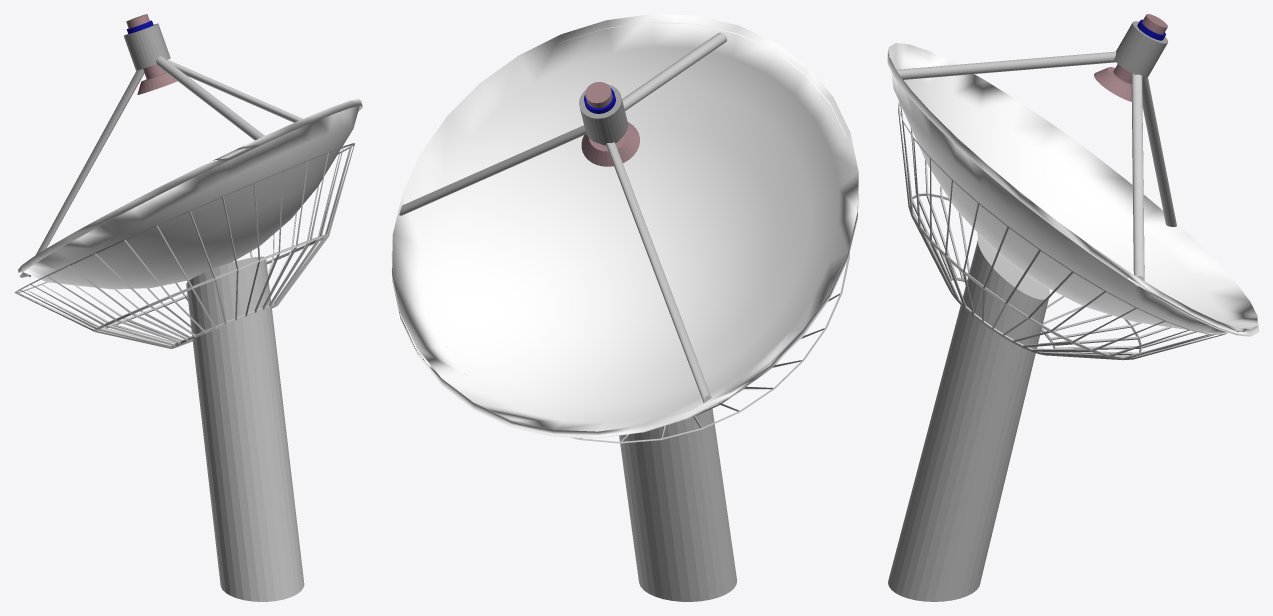
File: satellite.obj
3 renders of one model, left to right at view 1: azimuth 30°, elevation 25°; view 2: azimuth 150°, elevation 25°; view 3: azimuth 270°, elevation 25°, orthographic. The views are drawn at different scales.
Visible parts, largest first — view 1: Cylinder.008, Sphere, Cylinder.004, Cylinder.002, Cylinder.001, Cylinder.003, Cylinder, Cylinder.005_Cylinder.011; view 2: Sphere, Cylinder.008, Cylinder.002, Cylinder, Cylinder.001, Cylinder.003, Cylinder.004, Cylinder.005_Cylinder.011; view 3: Sphere, Cylinder.008, Cylinder.004, Cylinder.003, Cylinder, Cylinder.001, Cylinder.002, Cylinder.005_Cylinder.011.
Part boxes in pixels (box(x1,y1,x2,y2)): Cylinder.008: box(186, 256, 304, 601); Sphere: box(18, 99, 362, 289); Cylinder.004: box(14, 143, 354, 348); Cylinder.002: box(28, 69, 144, 276); Cylinder.001: box(124, 23, 170, 70); Cylinder.003: box(156, 56, 264, 140); Cylinder: box(167, 60, 302, 122); Cylinder.005_Cylinder.011: box(137, 64, 177, 94); Sphere: box(391, 14, 858, 438); Cylinder.008: box(619, 408, 736, 601); Cylinder.002: box(606, 142, 711, 402); Cylinder: box(399, 125, 586, 215); Cylinder.001: box(579, 84, 627, 144); Cylinder.003: box(622, 32, 726, 110); Cylinder.004: box(446, 252, 849, 443); Cylinder.005_Cylinder.011: box(581, 122, 639, 166); Sphere: box(887, 43, 1258, 336); Cylinder.008: box(888, 236, 1049, 601); Cylinder.004: box(898, 101, 1227, 360); Cylinder.003: box(896, 51, 1116, 79); Cylinder: box(1131, 73, 1144, 286); Cylinder.001: box(1114, 21, 1167, 77); Cylinder.002: box(1142, 77, 1176, 226); Cylinder.005_Cylinder.011: box(1094, 64, 1142, 101).
Bounding box in the file's own units: 2.39 × 3.45 × 2.1.
